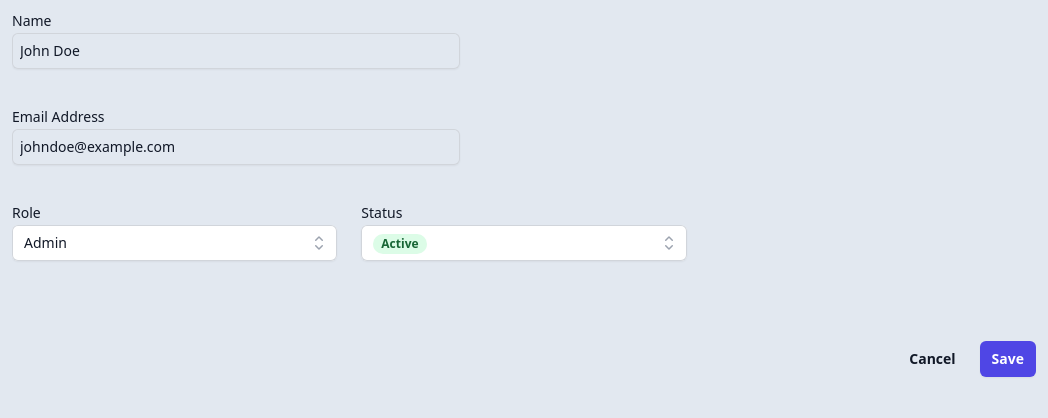
Test: EditUserForm › should display error message when name is not provided
The image size is (1048, 418).
Clear the field labelled "Name" at coordinates (236, 51), box [12,33,460,69]
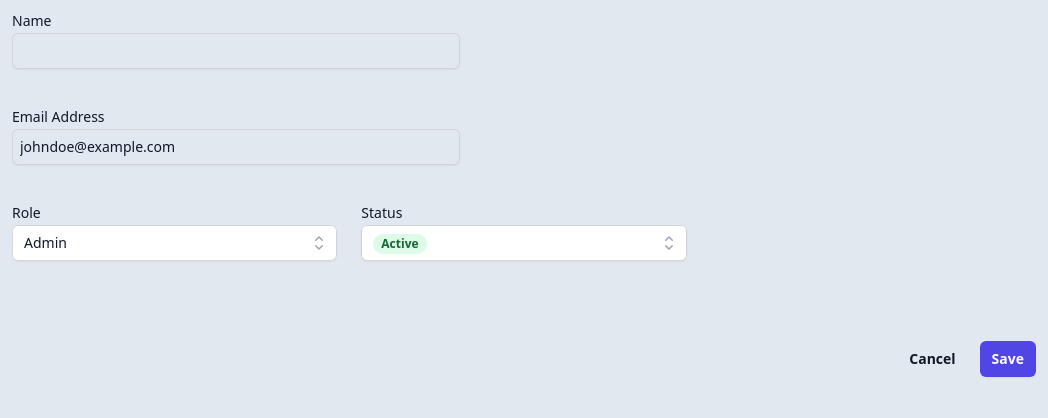
Submit the form from the button "Save", box [980,341,1036,377]
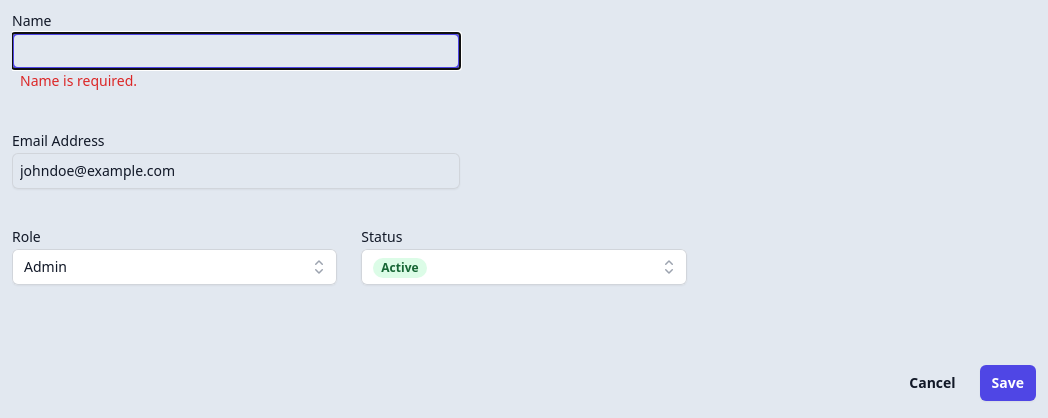
Check: the text "Name is required." is shown, box [20,71,137,90]
